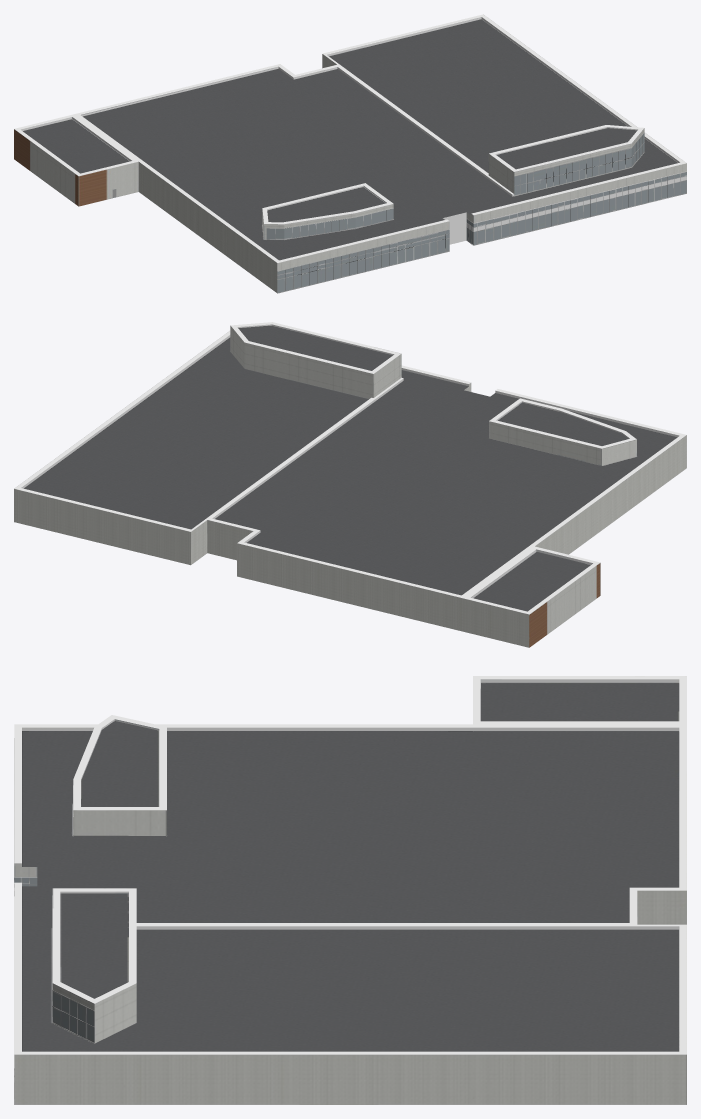
The model's file is Action Car _ Truck Accessories (version 2.0).fbx.
The picture shows the model from 3 angles, top to bottom: view 1: azimuth 30°, elevation 25°; view 2: azimuth 150°, elevation 25°; view 3: azimuth 270°, elevation 25°; orthographic projection. The views are drawn at different scales.
Parts seen in each view (by area): view 1: Action_Car_Truck_Accessories_LOD0; view 2: Action_Car_Truck_Accessories_LOD0; view 3: Action_Car_Truck_Accessories_LOD0.
Part boxes in pixels (<box>): Action_Car_Truck_Accessories_LOD0: <box>14,14,686,293</box>; Action_Car_Truck_Accessories_LOD0: <box>14,322,686,647</box>; Action_Car_Truck_Accessories_LOD0: <box>14,676,686,1104</box>.
Size of what is drawn, in the model's own units: 11725 by 1250 by 8805.
Materials: 1 (1 with a texture image).
